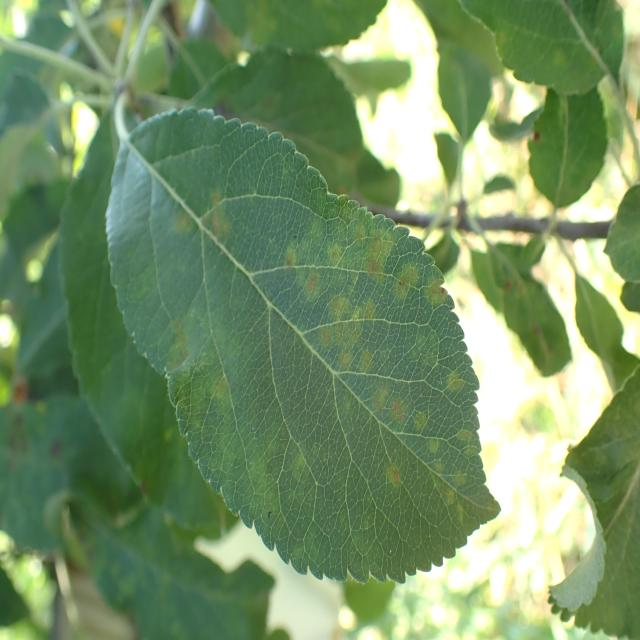scab: (144, 110, 486, 557)
